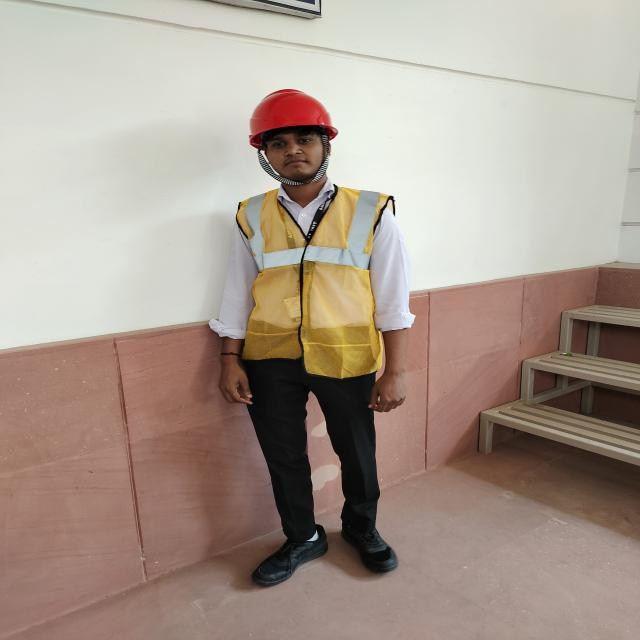safe: (211, 89, 409, 584)
